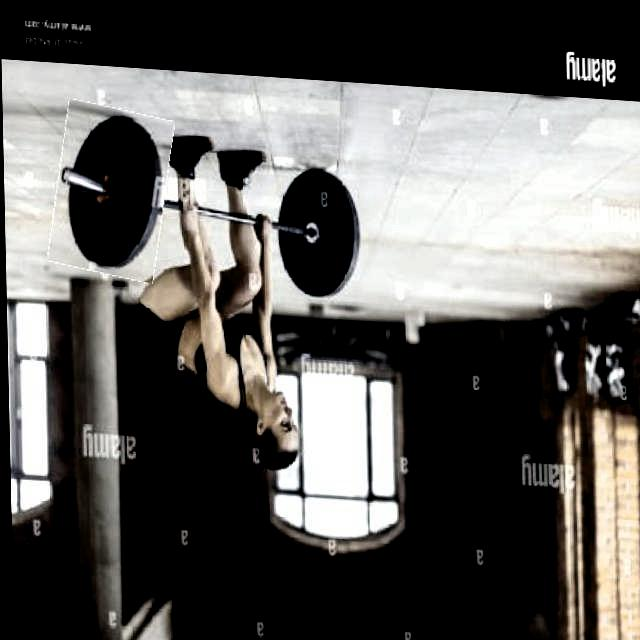barbell: (50, 101, 172, 280)
